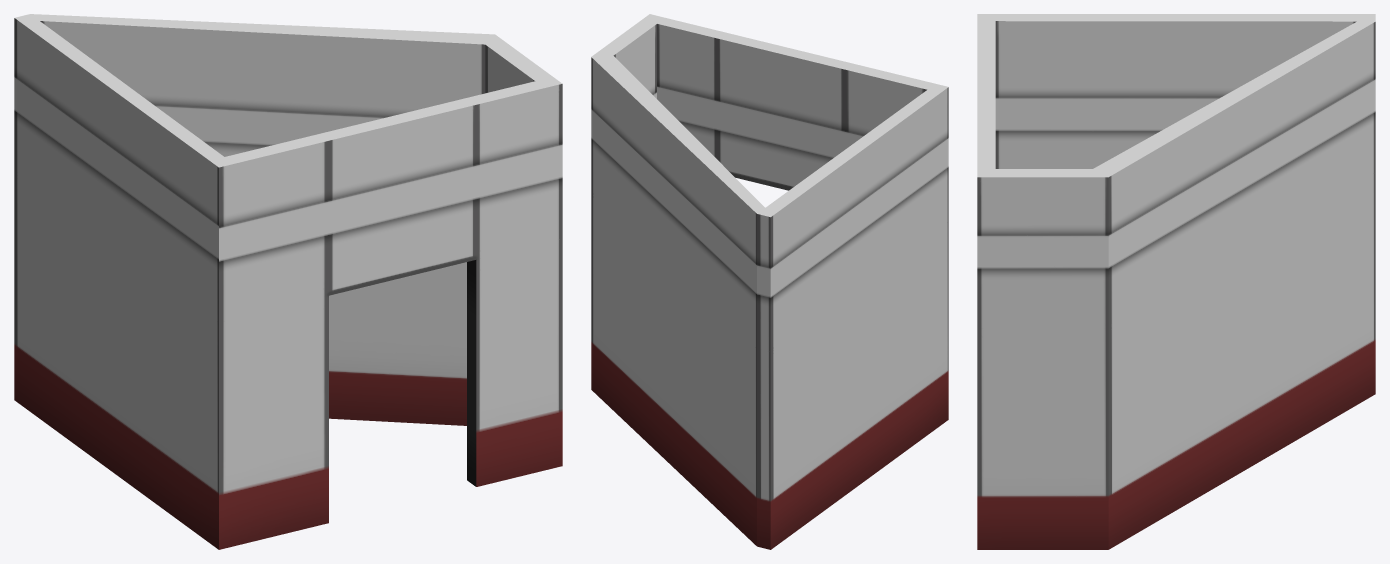
The model's file is MainFirstFloorTM0.FBX.
The picture shows the model from 3 angles, left to right: view 1: azimuth 30°, elevation 25°; view 2: azimuth 150°, elevation 25°; view 3: azimuth 270°, elevation 25°; orthographic projection. The views are drawn at different scales.
Parts seen in each view (by area): view 1: Box132; view 2: Box132; view 3: Box132.
Boxes of the visible parts, bbox=[...] form: Box132: bbox=[14, 14, 562, 549]; Box132: bbox=[591, 14, 948, 549]; Box132: bbox=[977, 14, 1375, 549].
Bounding box in the file's own units: 65.13 × 69.26 × 67.16.
1 material, 1 textured.
